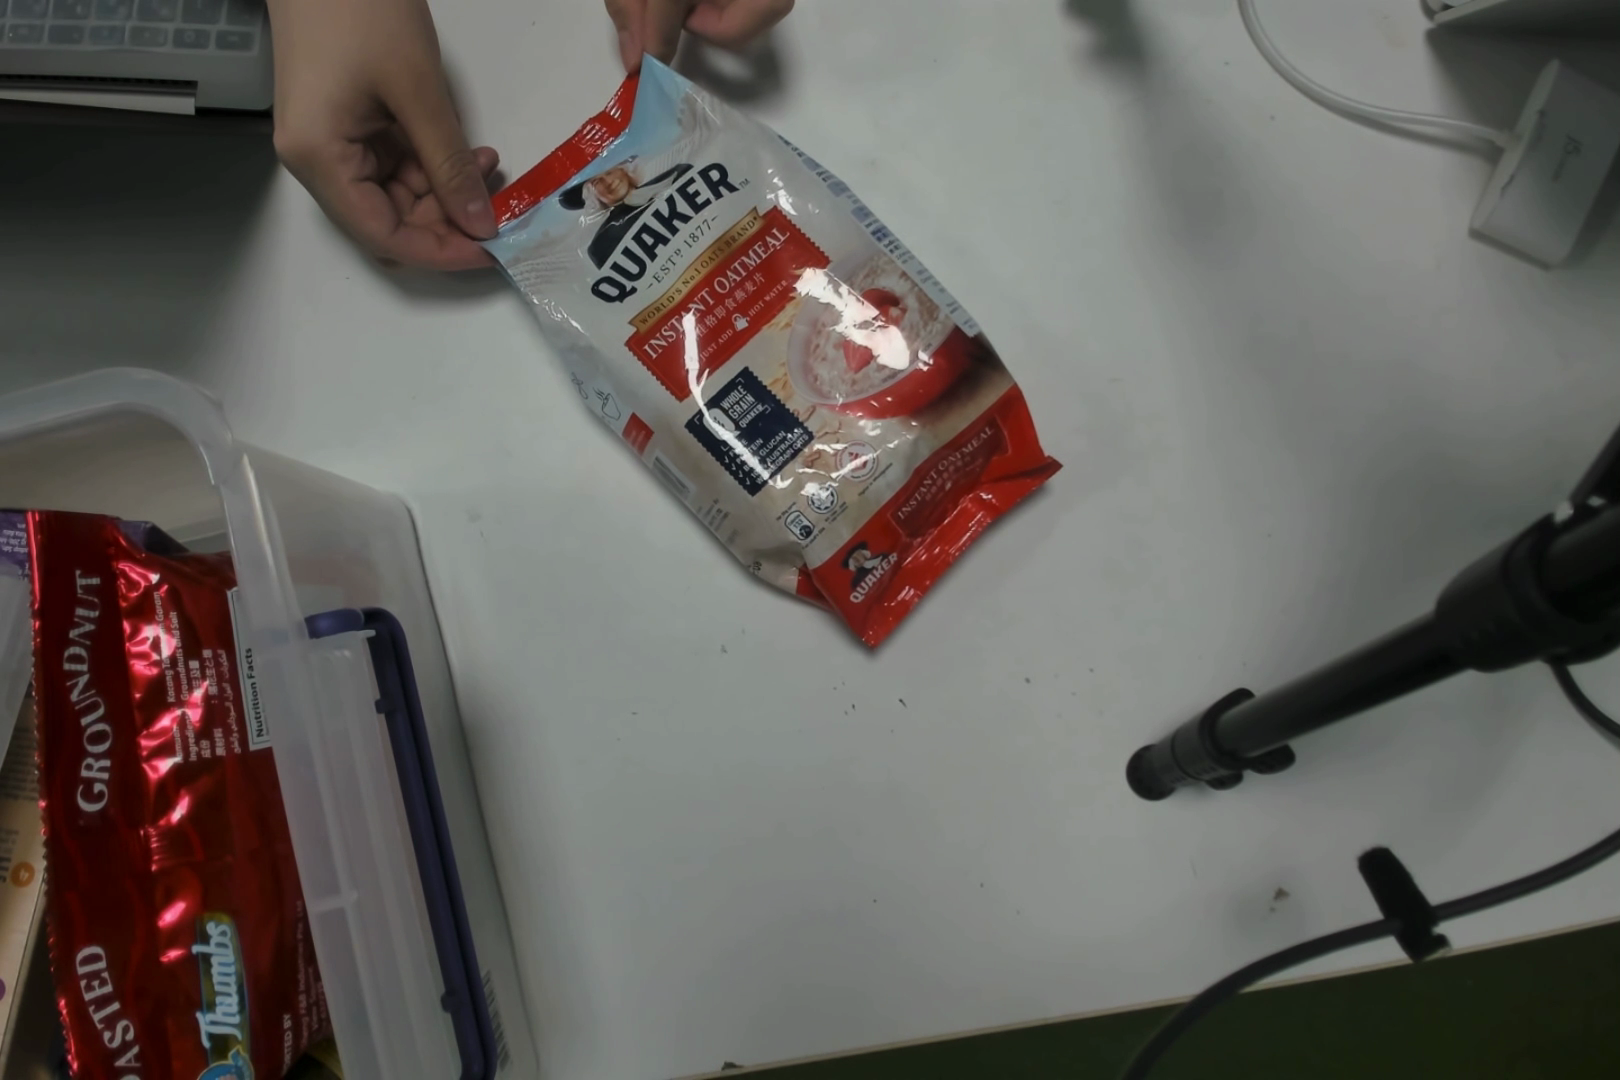RolledOatsInstantOatmeal_400-499g_Halal_Healthy: (586, 108, 999, 603)
